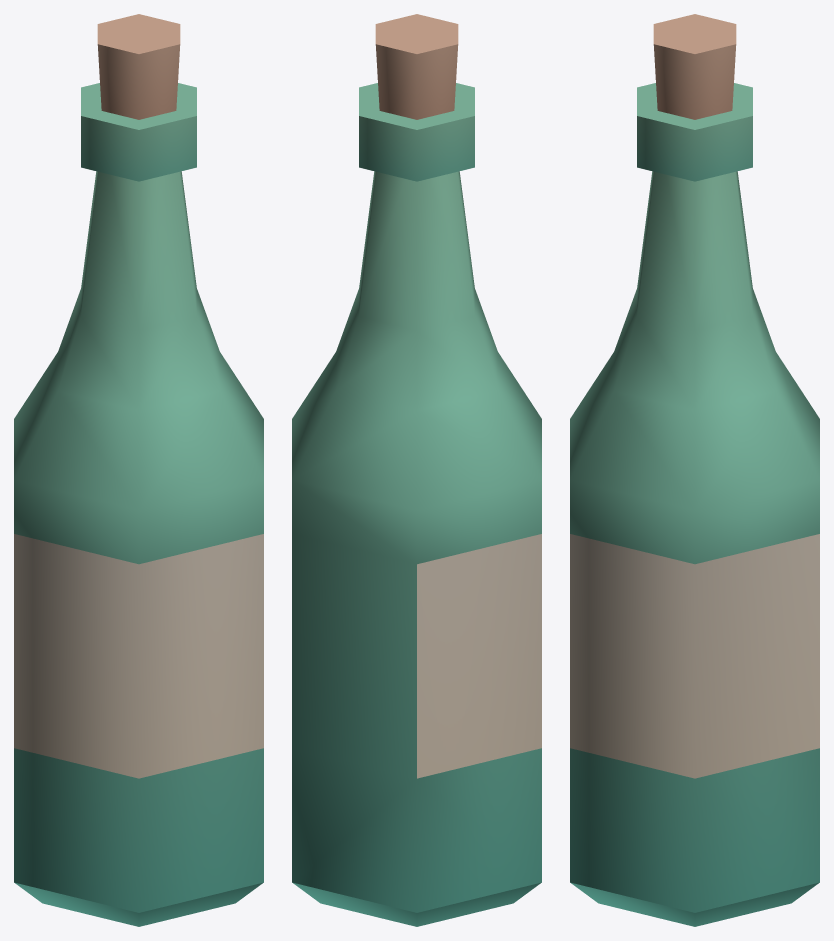
File: wine-white.glb
3 renders of one model, left to right at view 1: azimuth 30°, elevation 25°; view 2: azimuth 150°, elevation 25°; view 3: azimuth 270°, elevation 25°, orthographic.
Parts seen in each view (by area): view 1: wine-white; view 2: wine-white; view 3: wine-white.
Boxes of the visible parts, left/top/right/bottom form: wine-white: left=14, top=14, right=263, bottom=926; wine-white: left=292, top=14, right=541, bottom=926; wine-white: left=570, top=14, right=819, bottom=926.
Size of the model in its own units: 0.2028 by 0.6556 by 0.1756.
